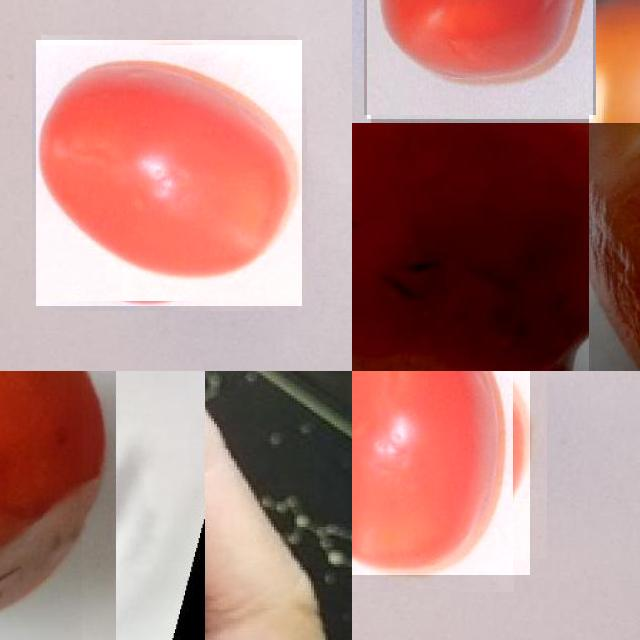Fresh Tomato: (36, 40, 302, 306), (352, 371, 530, 575), (367, 0, 592, 119), (589, 0, 640, 123)
Rotten Tomato: (352, 123, 589, 371), (0, 371, 81, 640)
